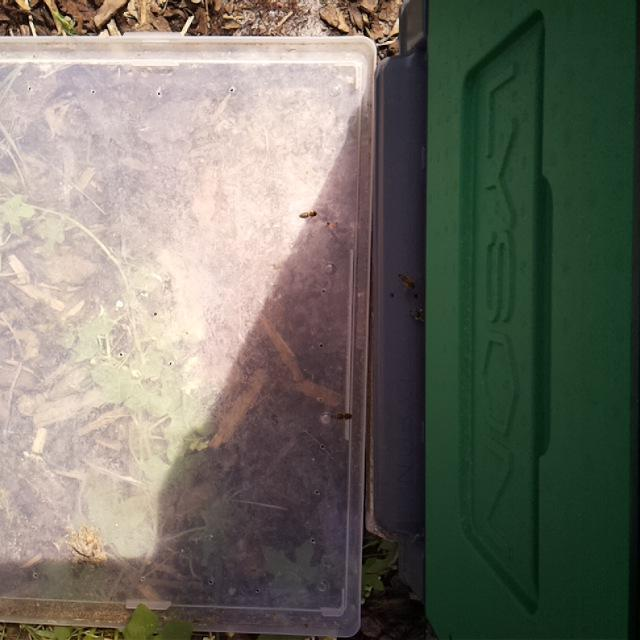worker-bee: (296, 205, 322, 224), (395, 271, 417, 292), (328, 408, 356, 424)
